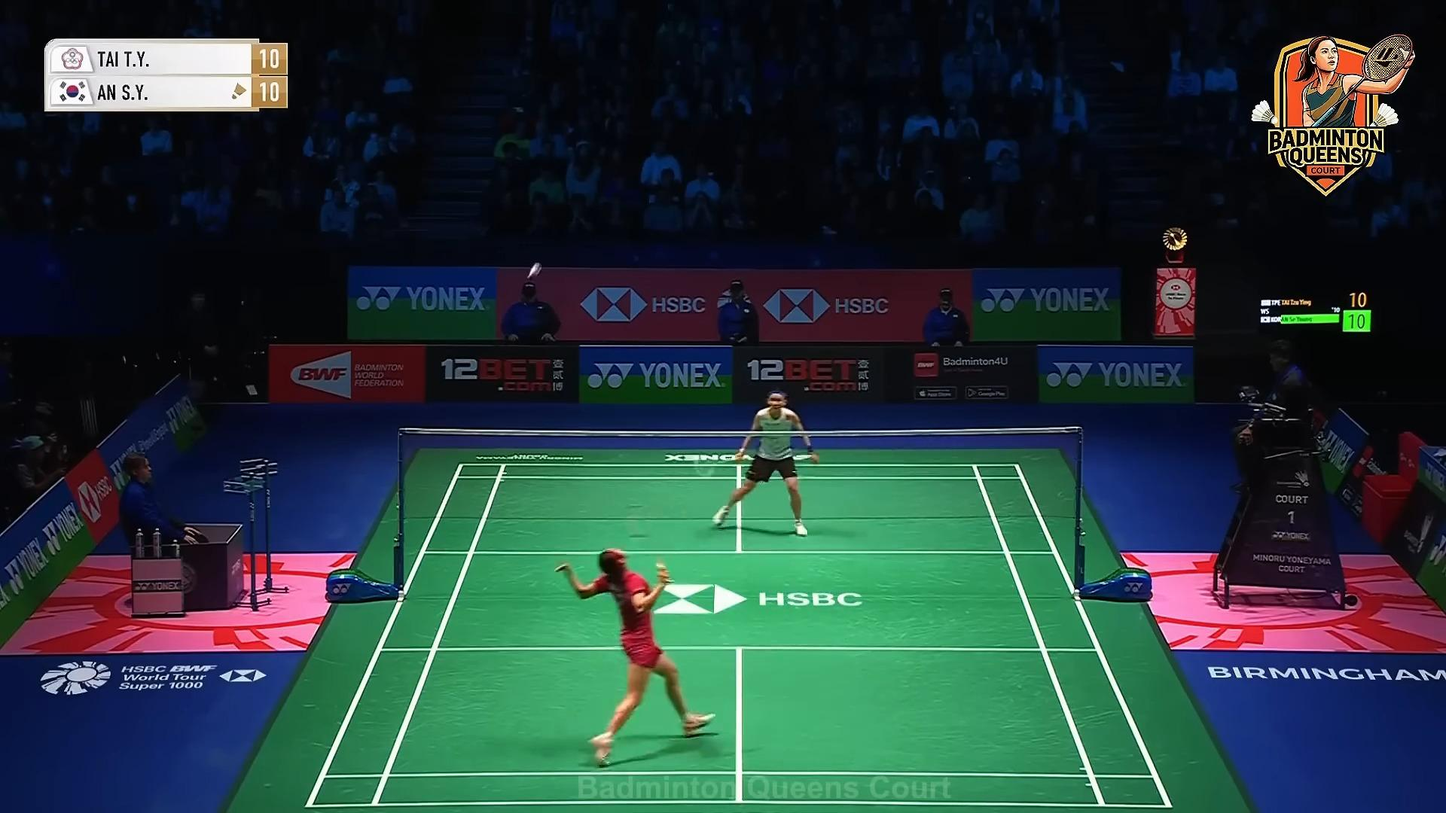shuttlecock: (526, 260, 542, 282)
